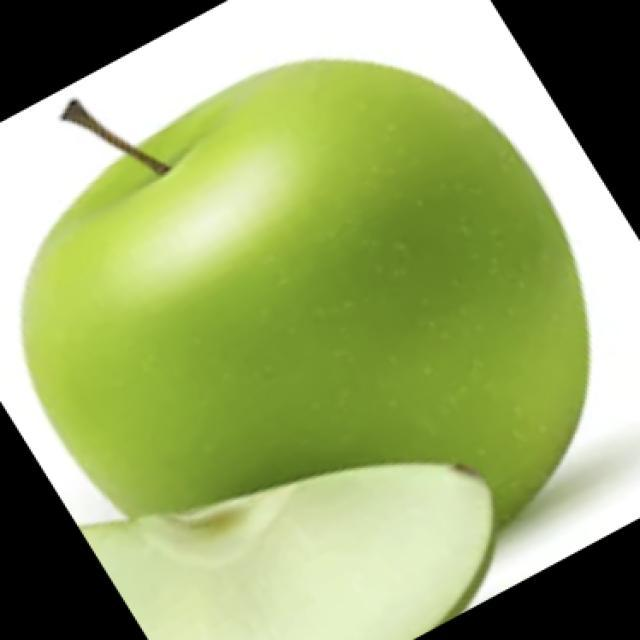Apple: (20, 56, 591, 534)
